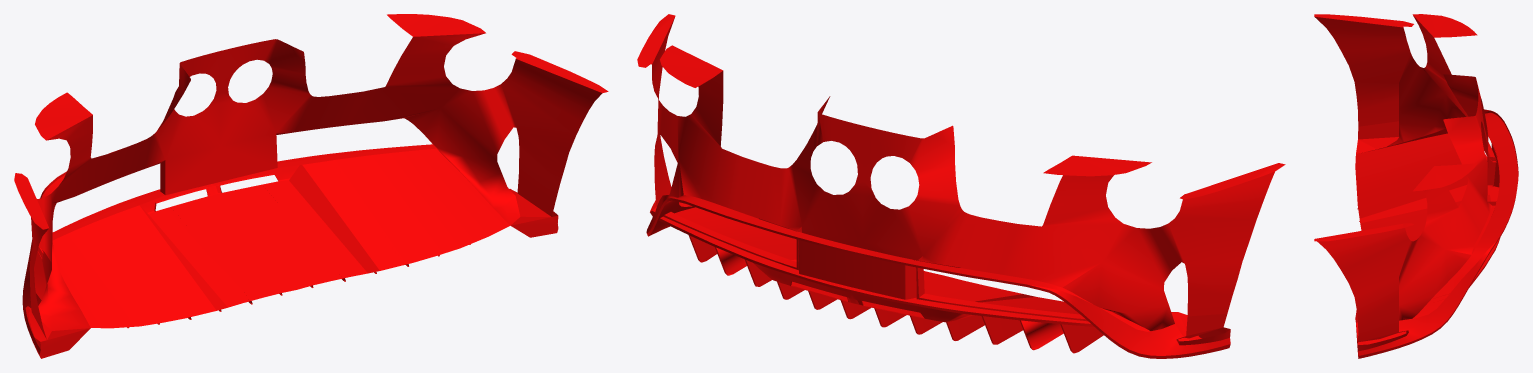
The model's file is FordGT_BB01_Trim.fbx.
The picture shows the model from 3 angles, left to right: view 1: azimuth 30°, elevation 25°; view 2: azimuth 150°, elevation 25°; view 3: azimuth 270°, elevation 25°; orthographic projection. The views are drawn at different scales.
Visible parts, largest first — view 1: FordGT_BB01_Trim; view 2: FordGT_BB01_Trim; view 3: FordGT_BB01_Trim.
Part boxes in pixels (x1,y1,x2,y2): FordGT_BB01_Trim: (14,14,608,358); FordGT_BB01_Trim: (637,14,1285,358); FordGT_BB01_Trim: (1314,14,1518,358).
Size of the model in its own units: 193 by 62.92 by 73.31.
